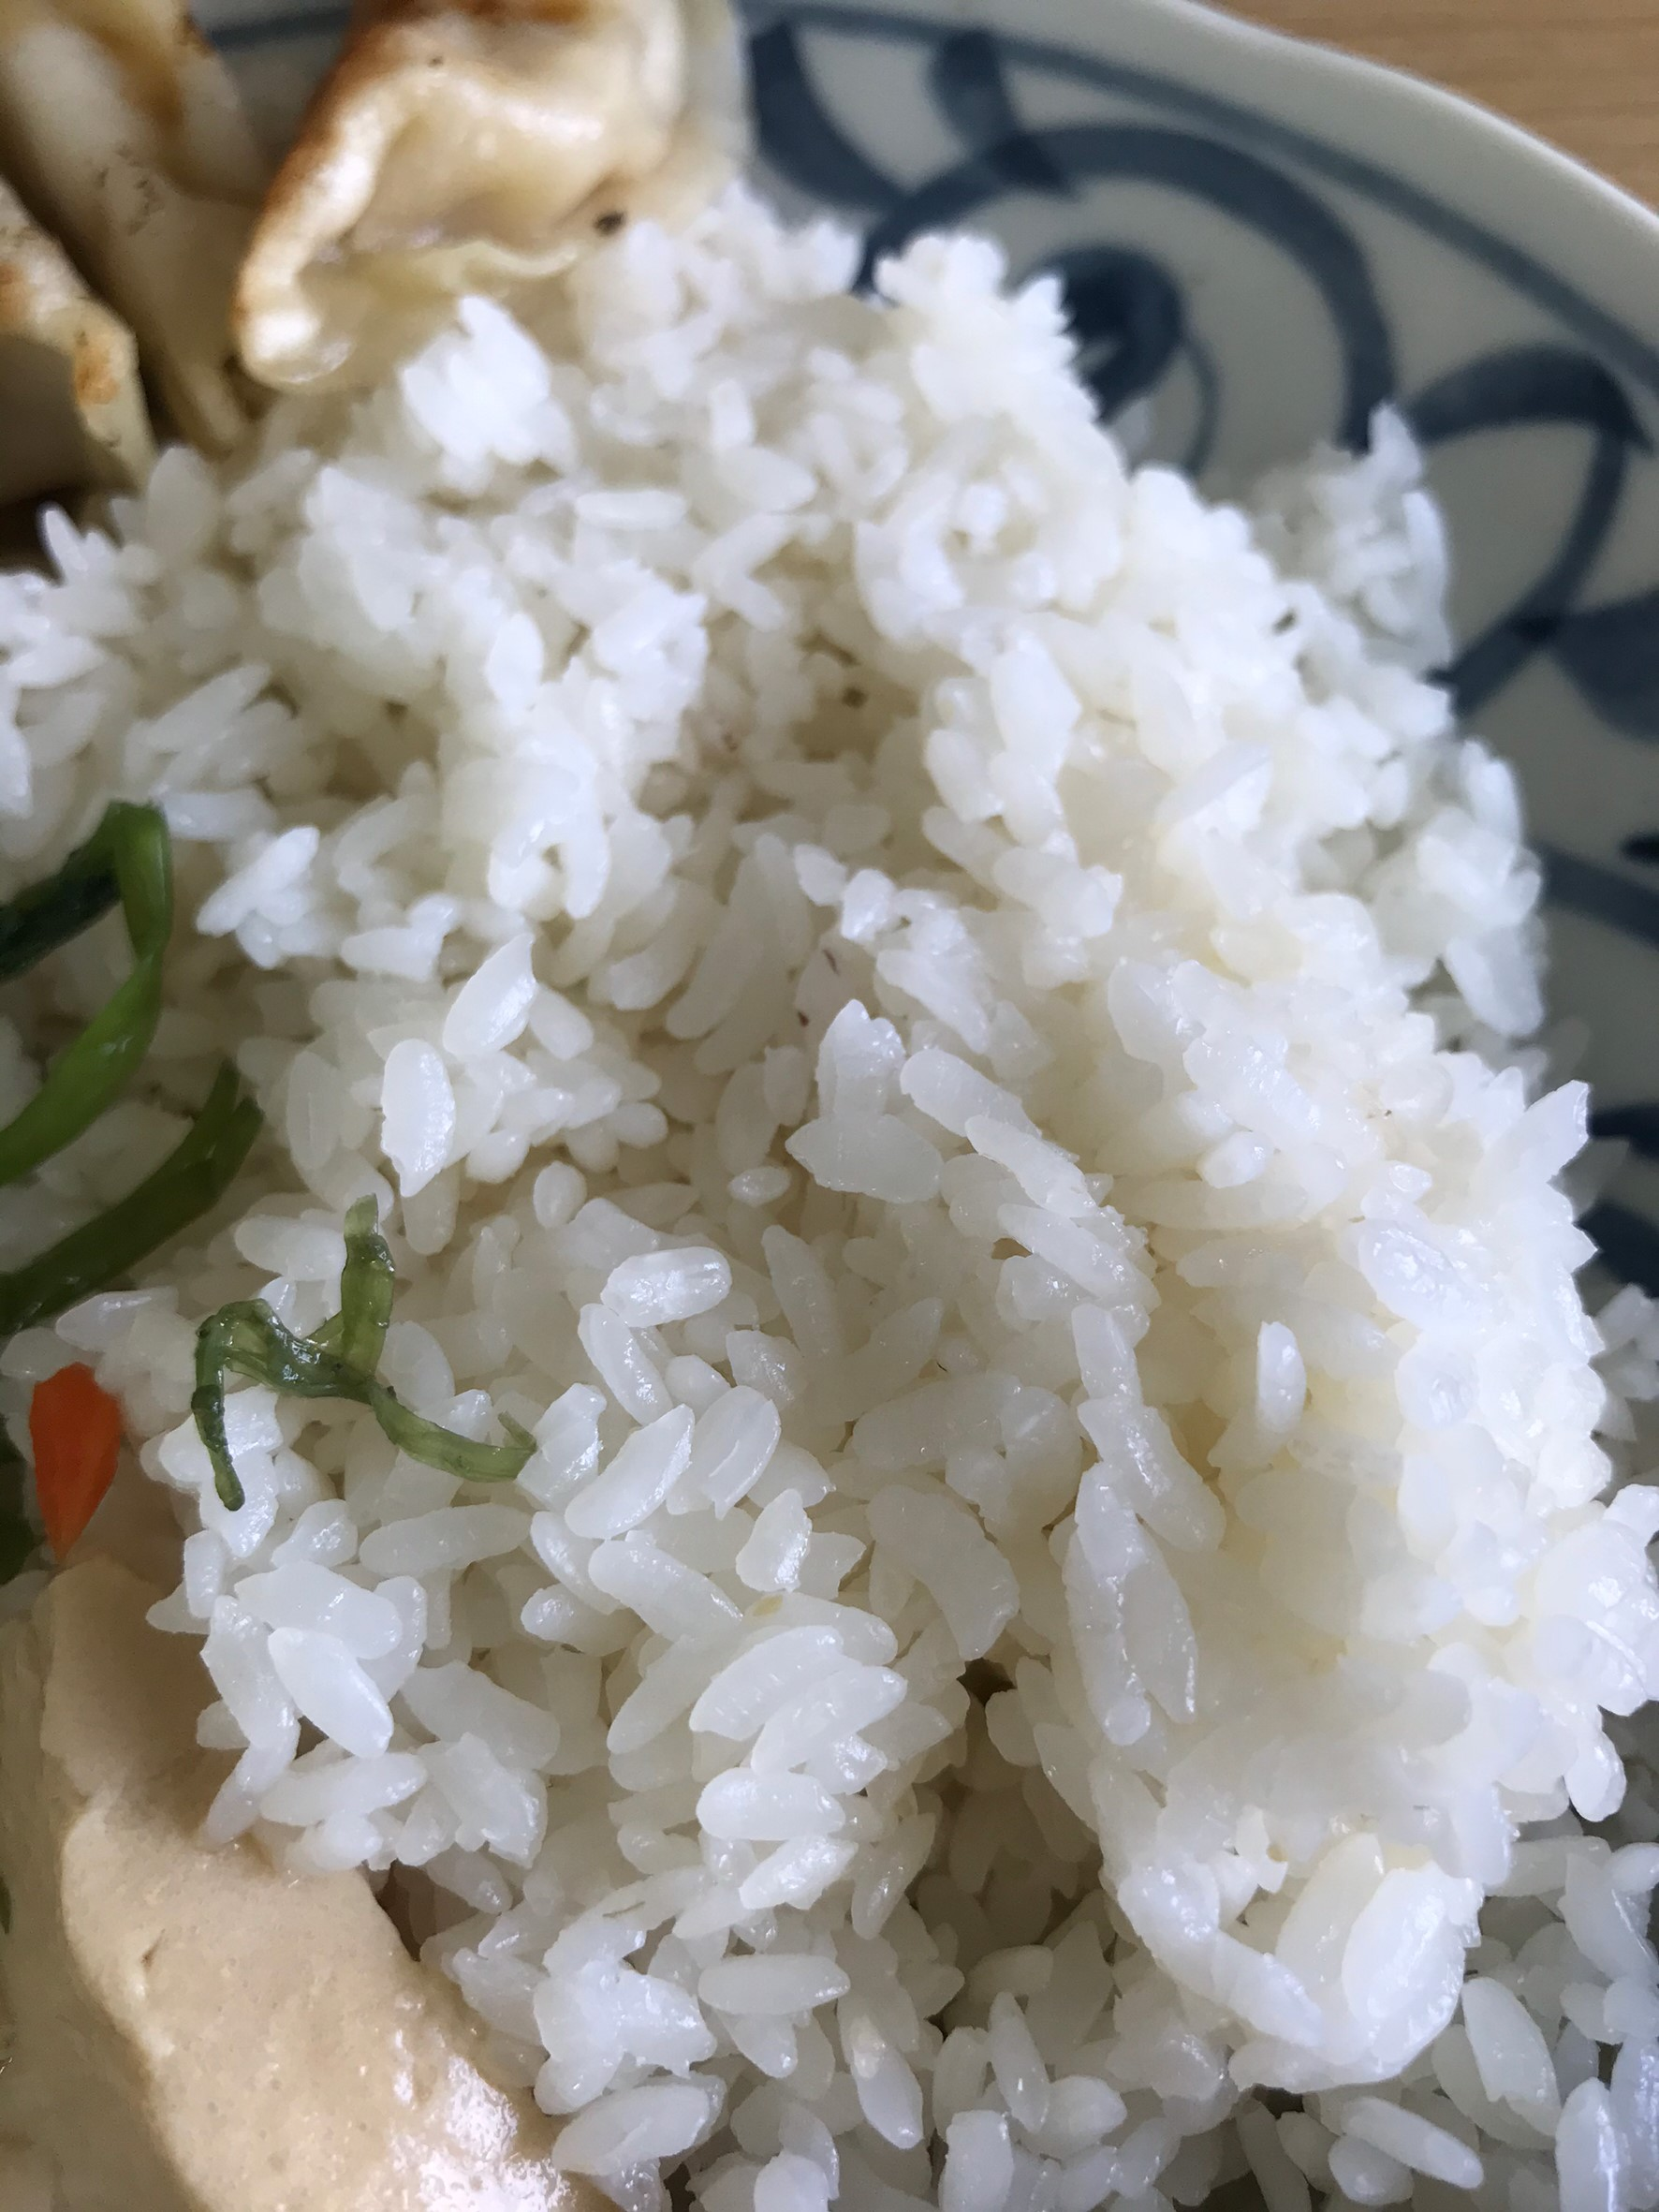rice: (373, 329, 1570, 2196)
